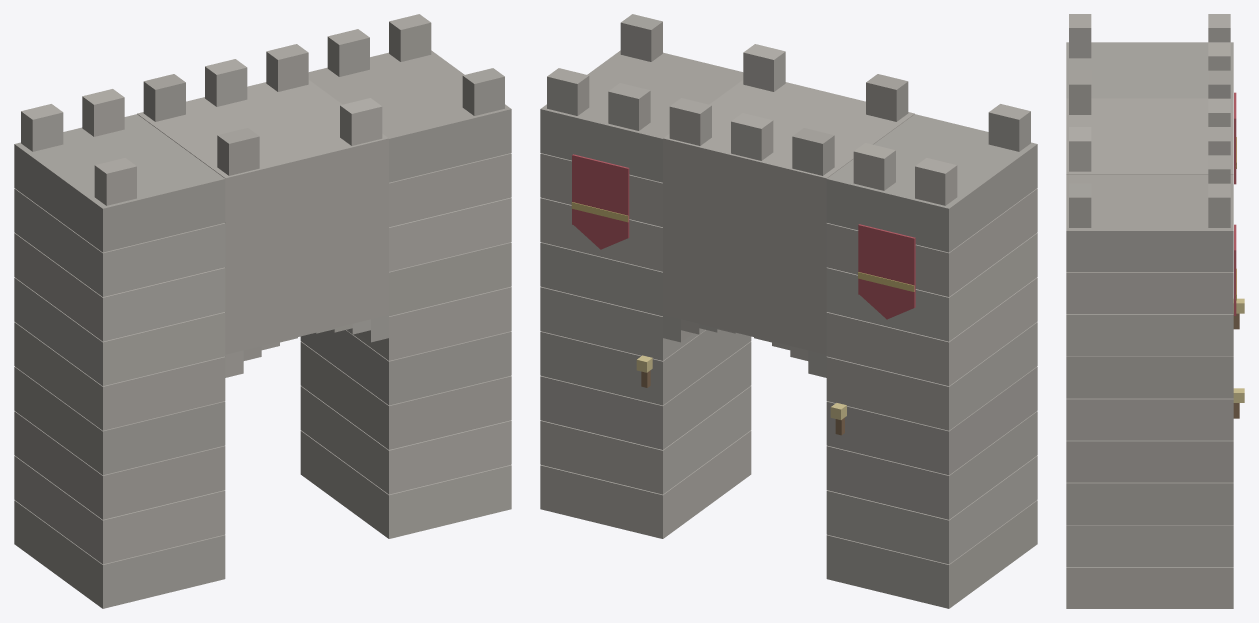
File: castle_gate.glb
3 views of the same model, side by side, from view 1: azimuth 30°, elevation 25°; view 2: azimuth 150°, elevation 25°; view 3: azimuth 270°, elevation 25° (orthographic). The views are drawn at different scales.
Parts seen in each view (by area): view 1: castle_gate; view 2: castle_gate; view 3: castle_gate.
Part boxes in pixels (x1,y1,x2,y2): castle_gate: [14, 14, 511, 608]; castle_gate: [540, 14, 1037, 608]; castle_gate: [1066, 14, 1244, 608].
Bounding box in the file's own units: 8 × 8.09 × 3.2.
